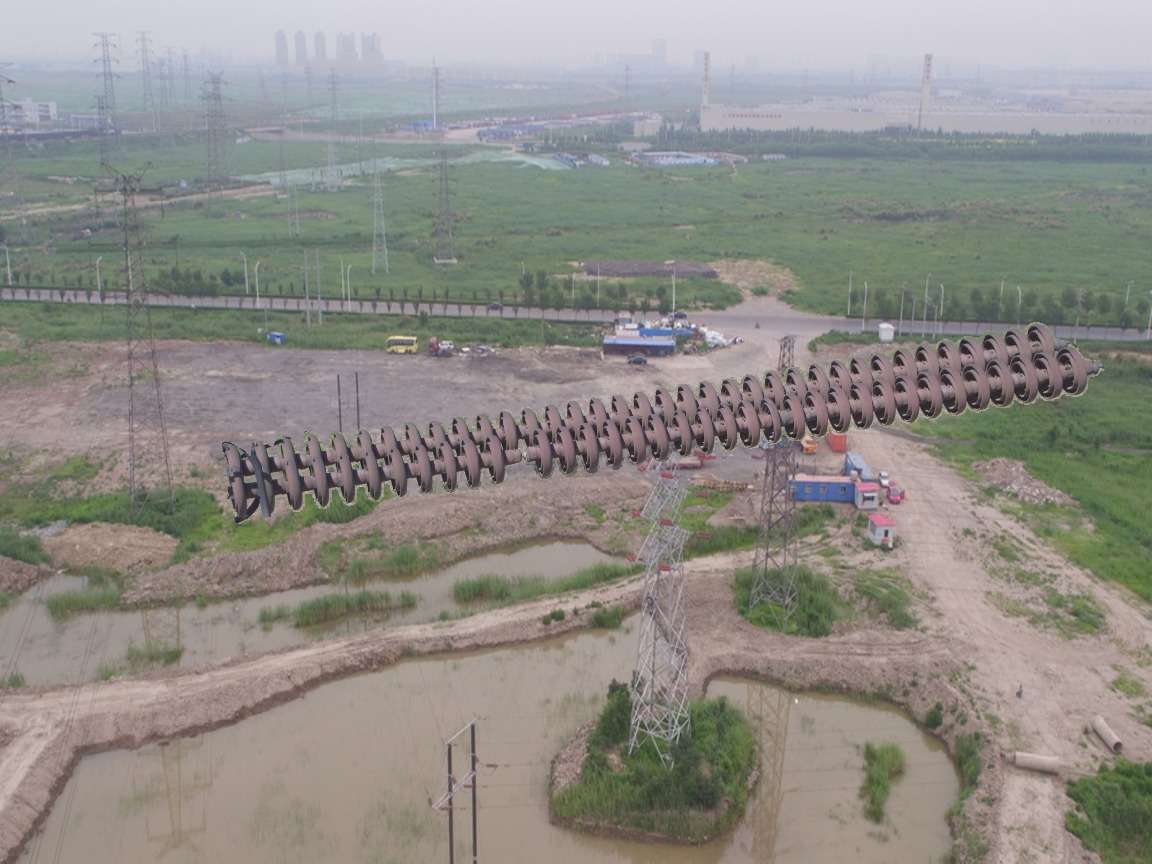defect: (481, 426, 558, 485)
